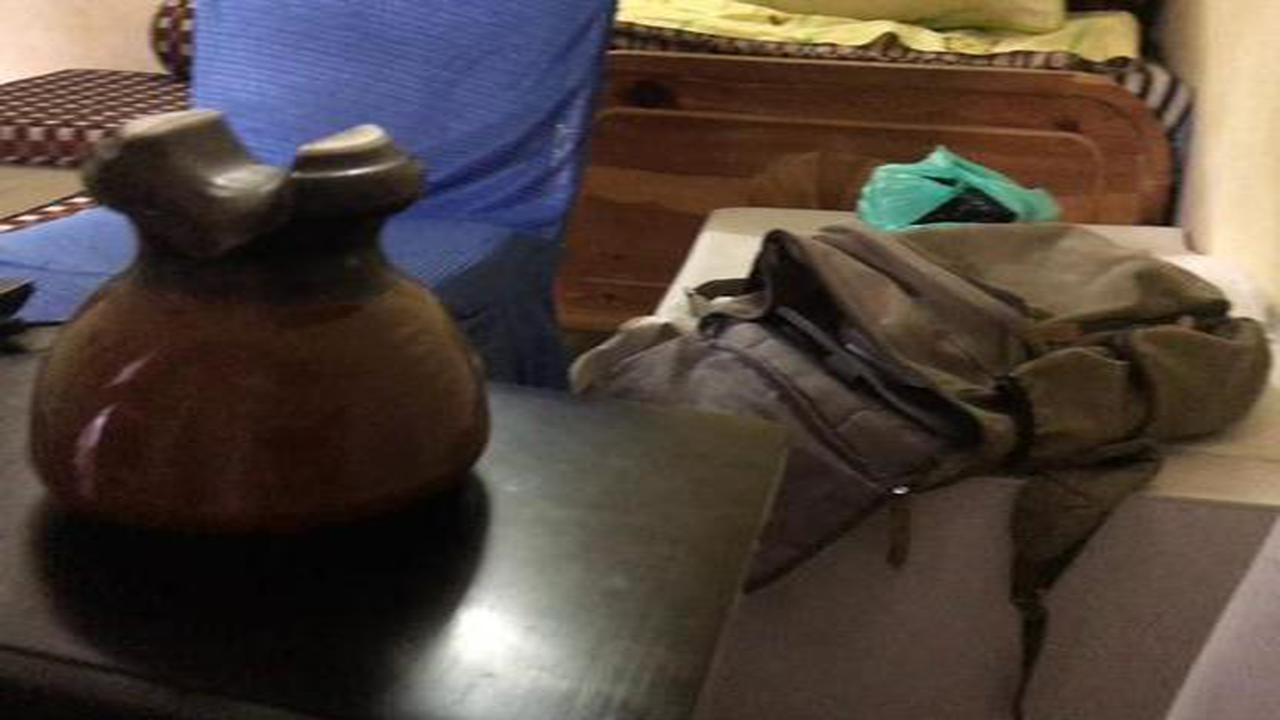insulator_pin: (22, 106, 514, 560)
